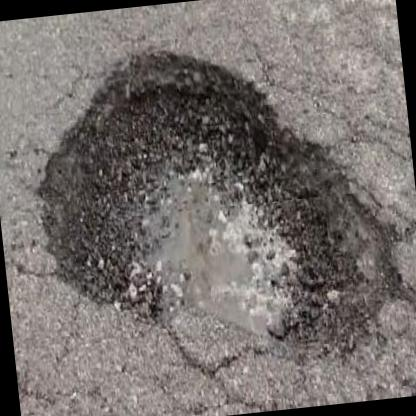pothole: (18, 17, 416, 393)
